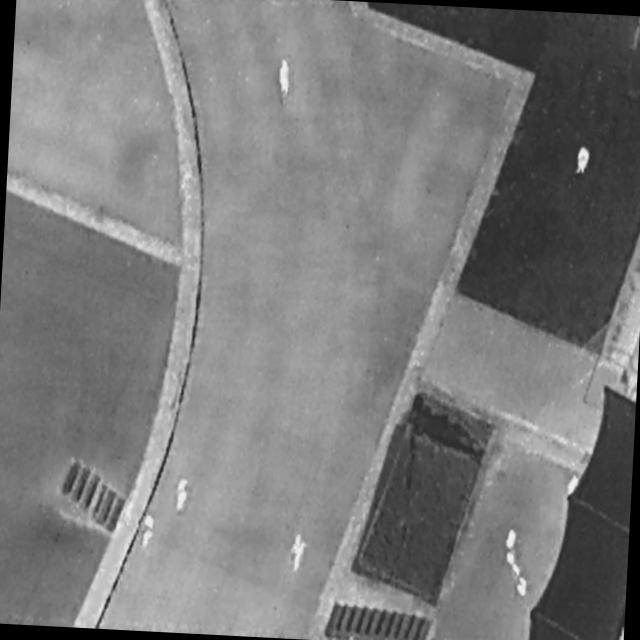person: (288, 530, 310, 575), (139, 510, 160, 555), (574, 139, 594, 181), (275, 56, 294, 99), (563, 469, 585, 504), (174, 474, 191, 515)
